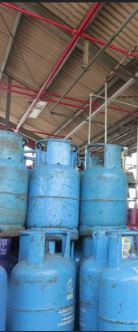blue_gas: (11, 230, 77, 332), (80, 233, 138, 332), (26, 137, 77, 238), (80, 143, 128, 236), (1, 129, 27, 237)
